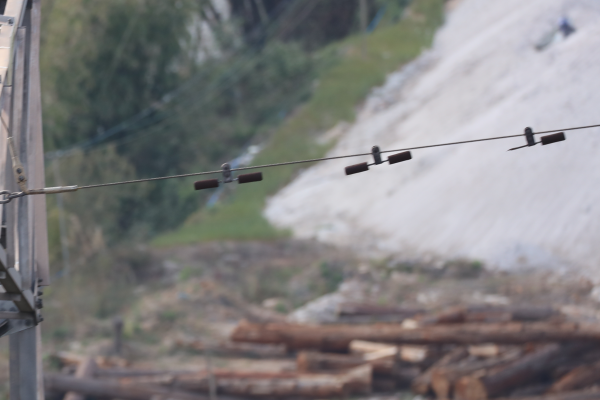damper: (342, 144, 413, 177), (192, 162, 264, 191)
damper_defect: (506, 125, 567, 154)
